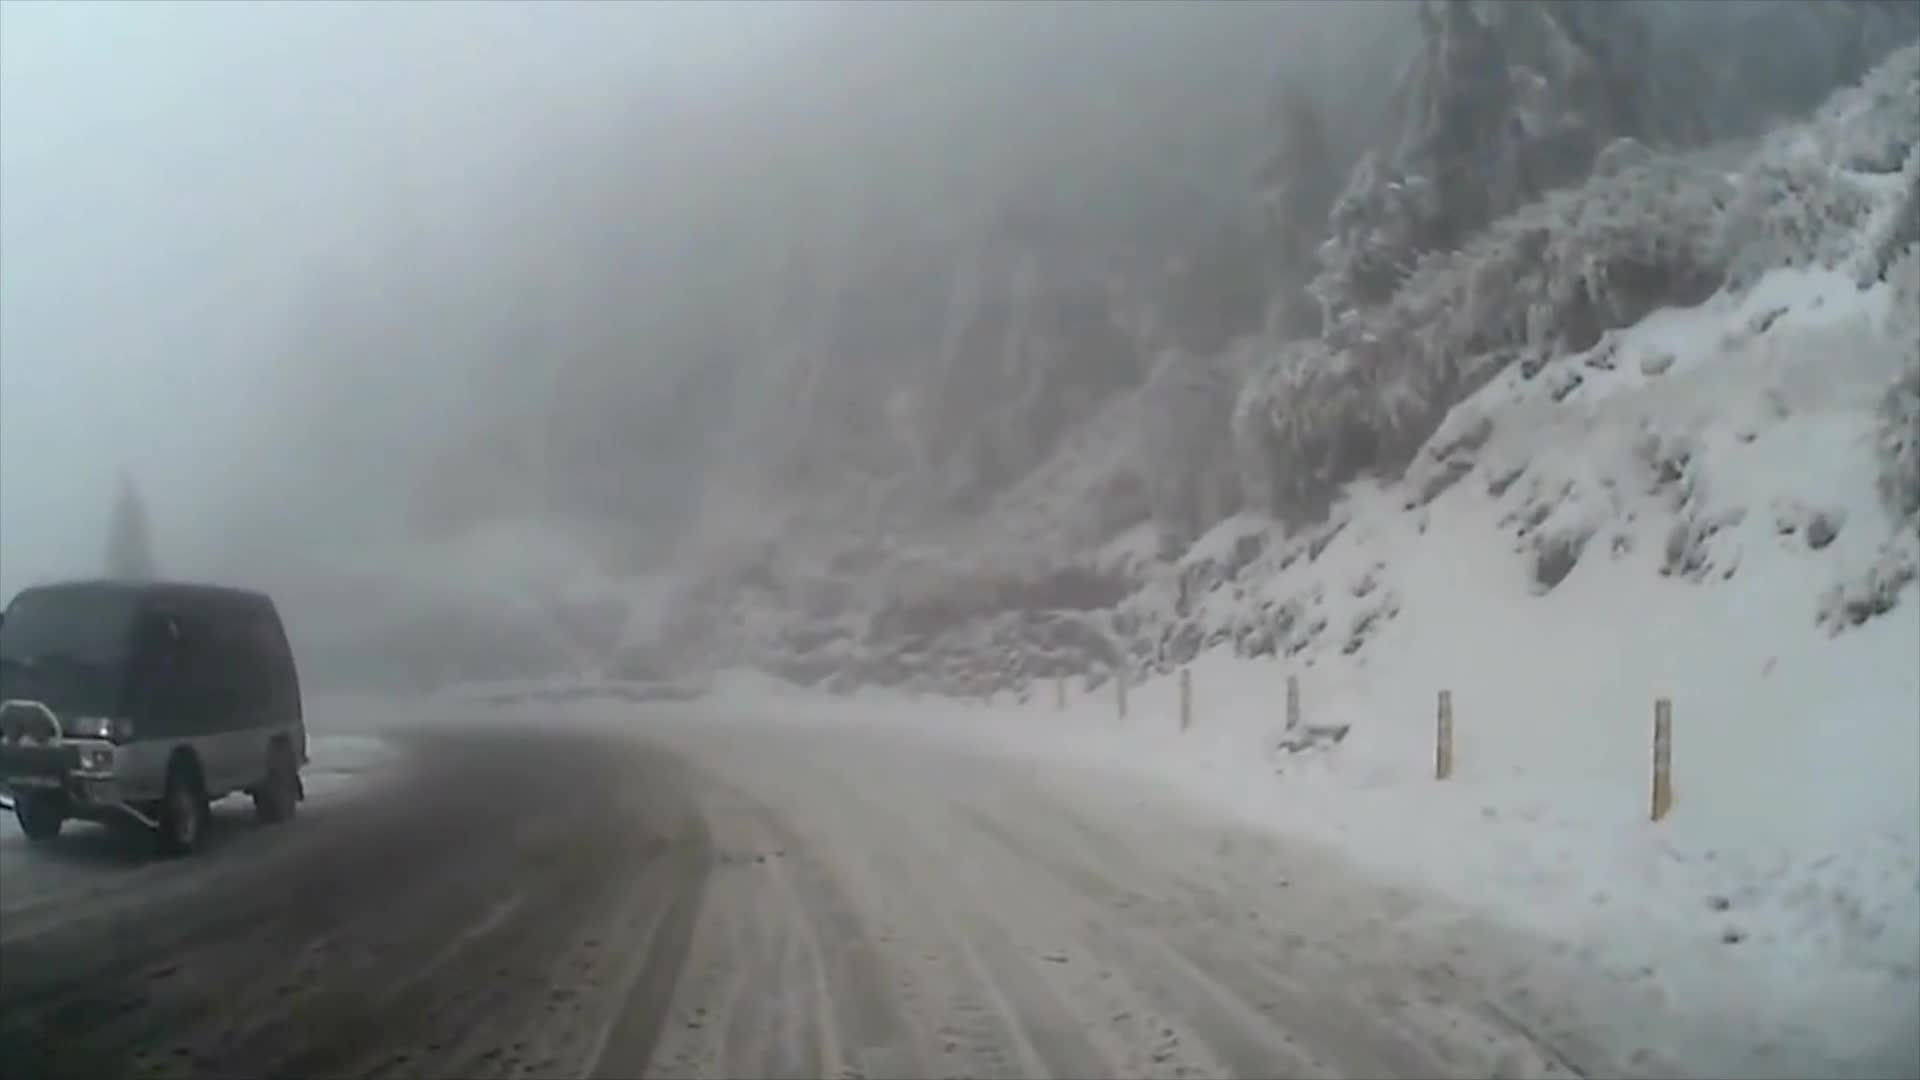vehicle: (0, 578, 313, 861)
